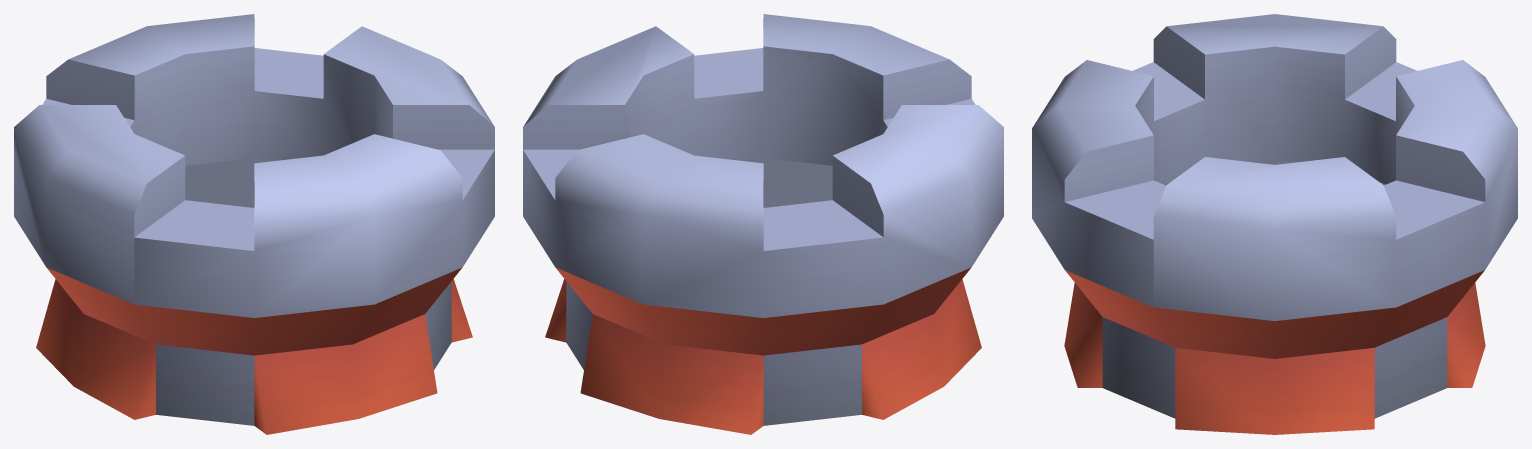
The model's file is kenney-tower-defense-tower-round-top-c.glb.
The picture shows the model from 3 angles, left to right: view 1: azimuth 30°, elevation 25°; view 2: azimuth 150°, elevation 25°; view 3: azimuth 270°, elevation 25°; orthographic projection.
Parts seen in each view (by area): view 1: tower-round-top-c; view 2: tower-round-top-c; view 3: tower-round-top-c.
Boxes of the visible parts, x1,y1,x2,y2 form: tower-round-top-c: (14,14,494,434); tower-round-top-c: (523,14,1003,434); tower-round-top-c: (1032,14,1517,434).
Bounding box in the file's own units: 0.976 × 0.5325 × 0.976.
Materials: 1 (1 with a texture image).
